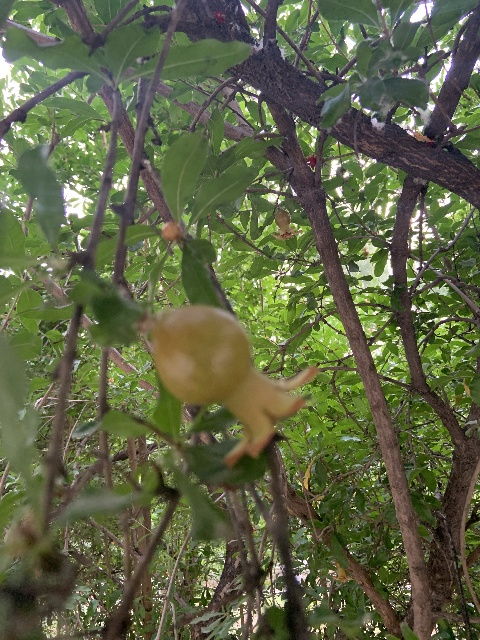bud: (162, 221, 182, 240)
early-fruit: (148, 304, 319, 466), (269, 209, 301, 241), (332, 559, 352, 583)
